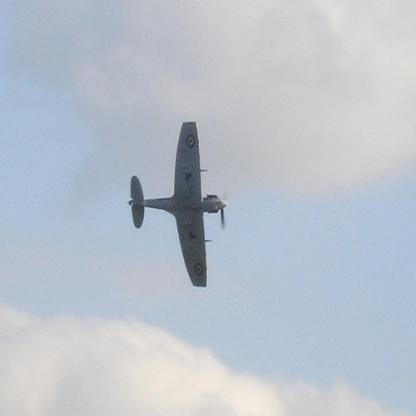aeroplane: (127, 119, 227, 289)
